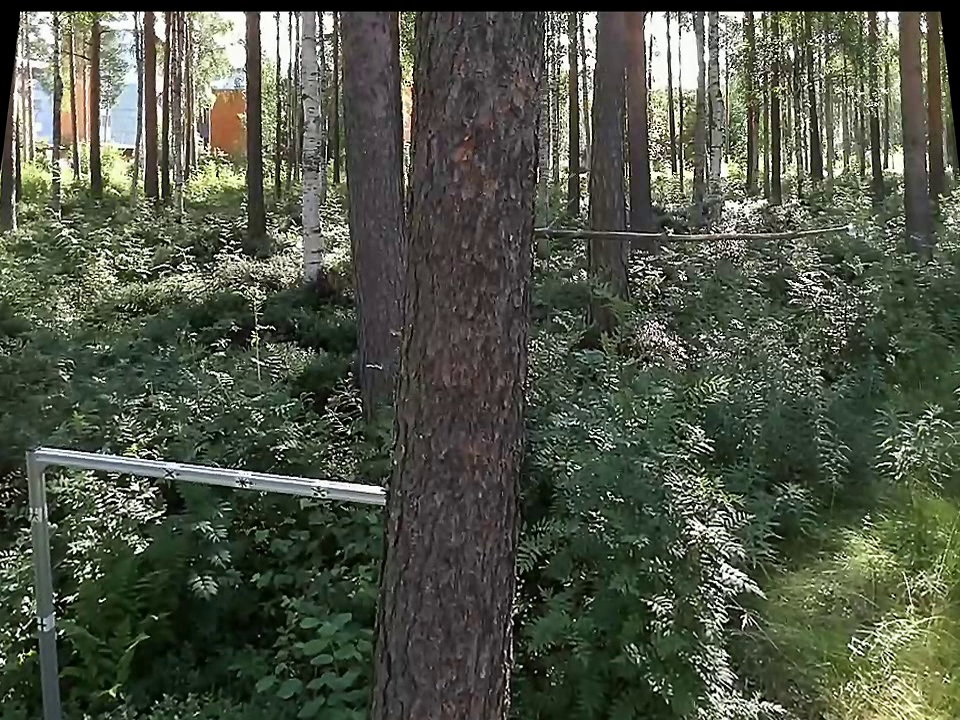aluminum_frame: (28, 441, 389, 513), (20, 444, 71, 713)
branch: (538, 211, 842, 254)
